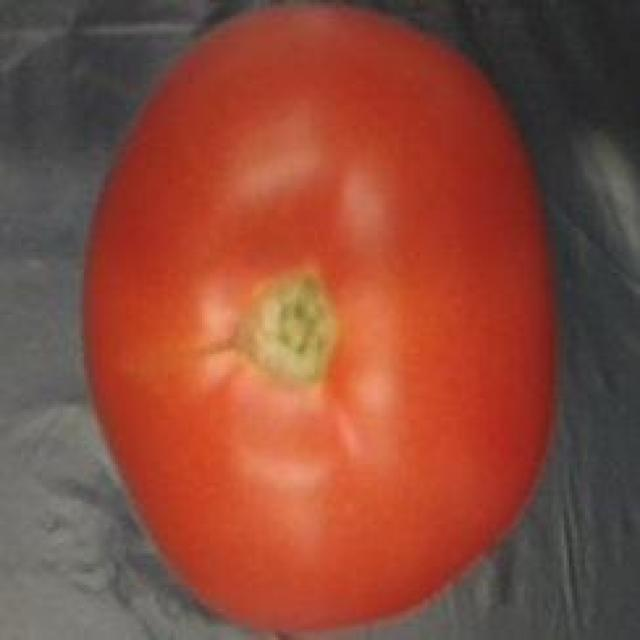ripe tomato: (61, 0, 566, 640)
